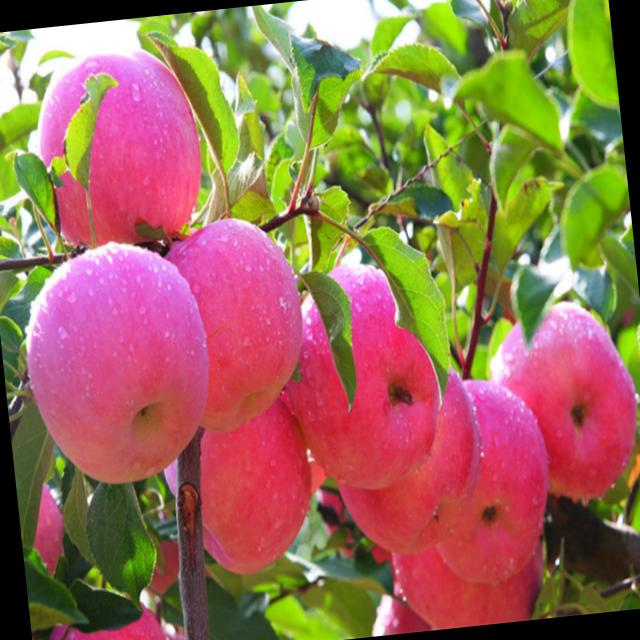apple: (259, 240, 476, 498), (19, 244, 220, 512), (132, 190, 316, 455), (26, 36, 223, 268), (482, 284, 640, 527), (368, 430, 556, 632), (158, 374, 324, 594), (405, 370, 568, 594)
